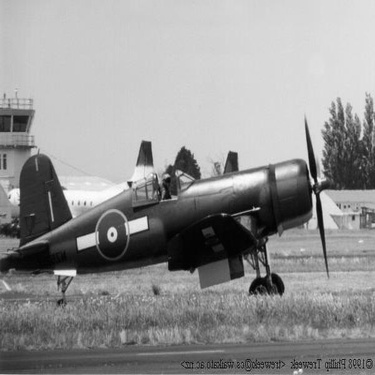airplane: (7, 120, 346, 305), (1, 143, 162, 255)
